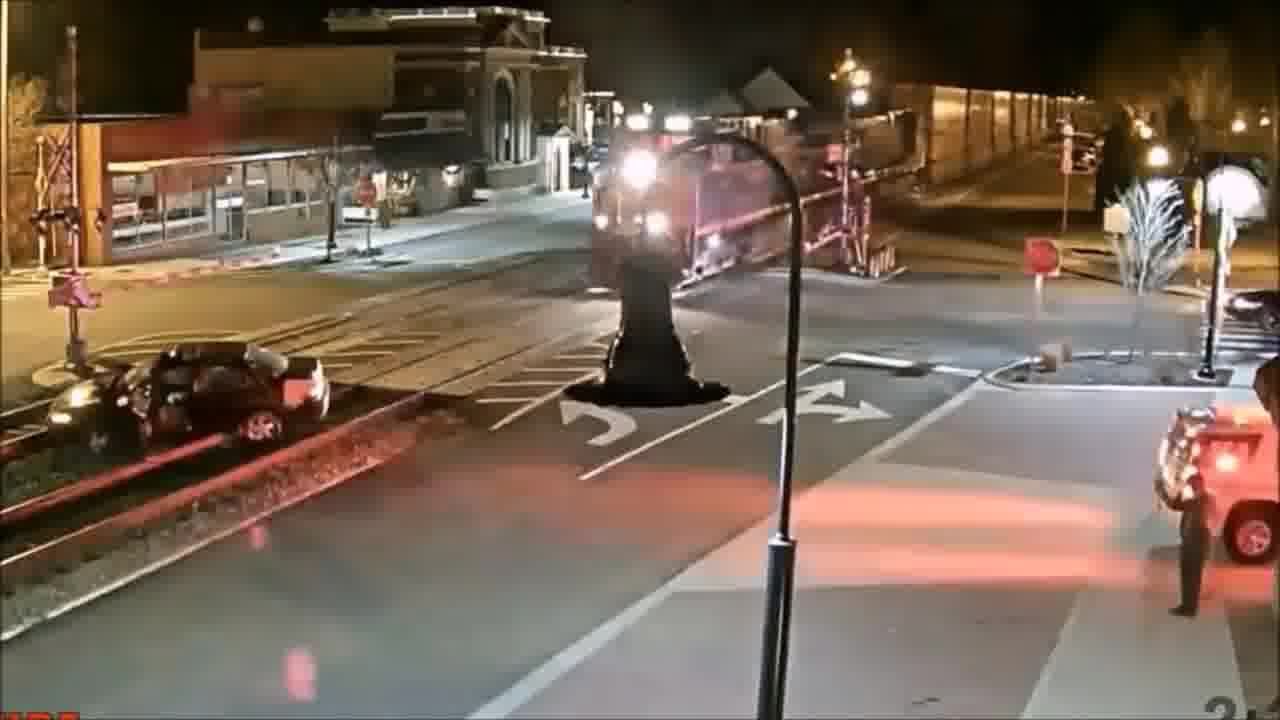crossing railway track: (34, 336, 338, 466)
